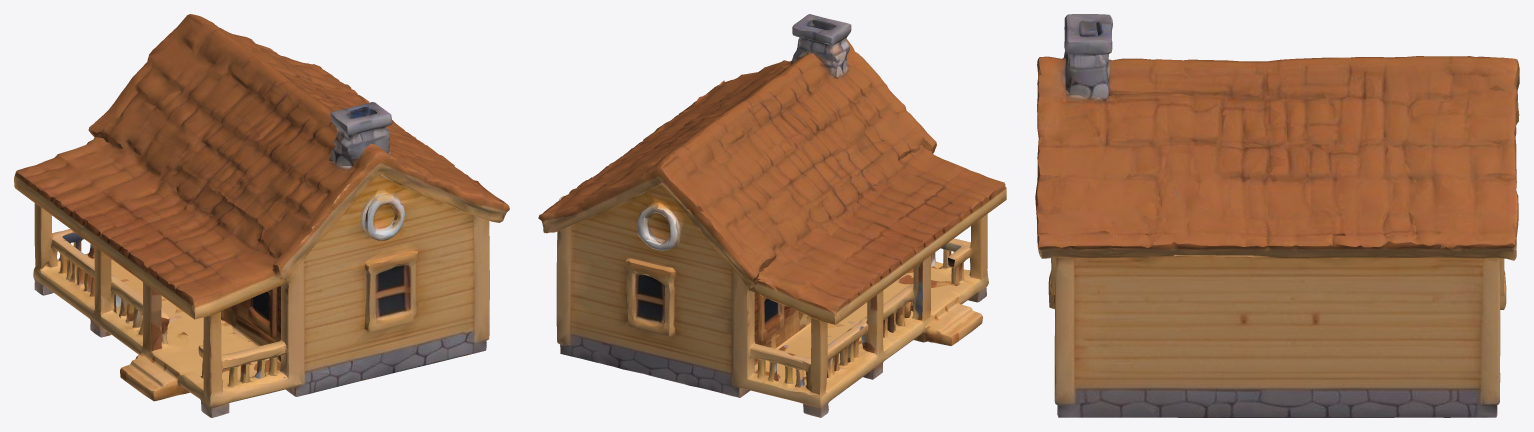
The model's file is ranch.glb.
3 views of the same model, side by side, from view 1: azimuth 30°, elevation 25°; view 2: azimuth 150°, elevation 25°; view 3: azimuth 270°, elevation 25° (orthographic). The views are drawn at different scales.
Visible parts, largest first — view 1: ranch_s15; view 2: ranch_s15; view 3: ranch_s15.
Boxes of the visible parts, x1,y1,x2,y2 form: ranch_s15: [14, 14, 509, 417]; ranch_s15: [538, 14, 1006, 417]; ranch_s15: [1035, 14, 1519, 417].
Size of the model in its own units: 0.9606 by 0.735 by 1.
Materials: 1 (1 with a texture image).
